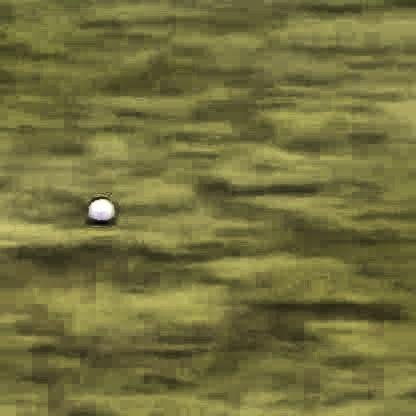golfball: (85, 195, 113, 220)
